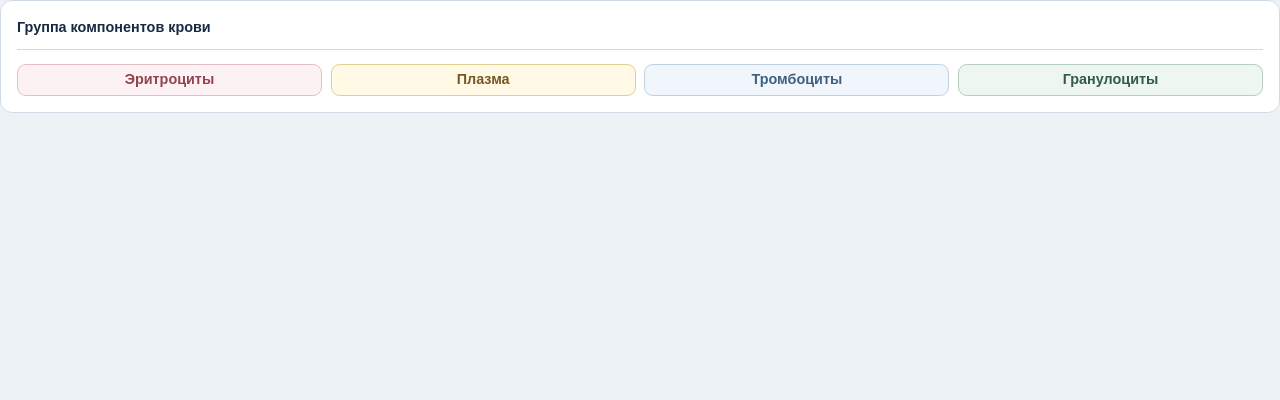
Test: toggles off the chosen group without erasing its stored name
Expected: the field labelled "Наименование компонента донорской крови" is not shown
Click the button "Эритроциты".
click(169, 80)  # box [17, 64, 322, 96]
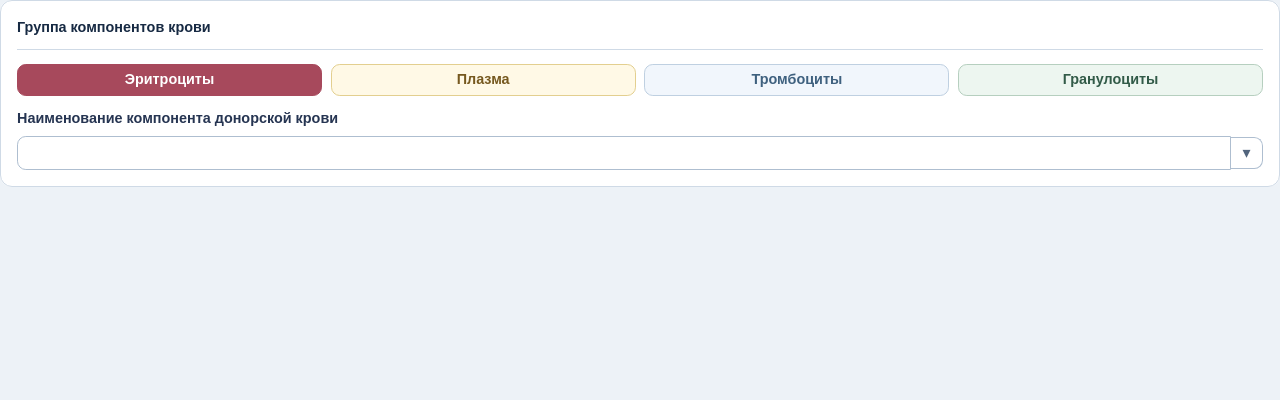
Expected: the button "Эритроциты" is pressed, [17, 64, 322, 96]
Type "Мой компонент" into the field named "Наименование компонента донорской крови".
click(624, 153); type("Мой компонент")  # box [17, 136, 1231, 170]
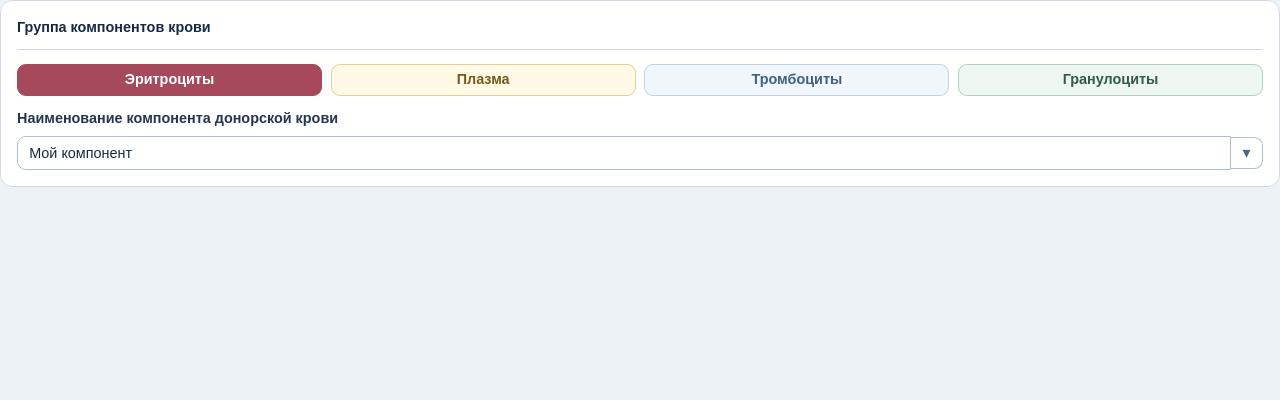
Click the button "Эритроциты".
click(169, 80)  # box [17, 64, 322, 96]
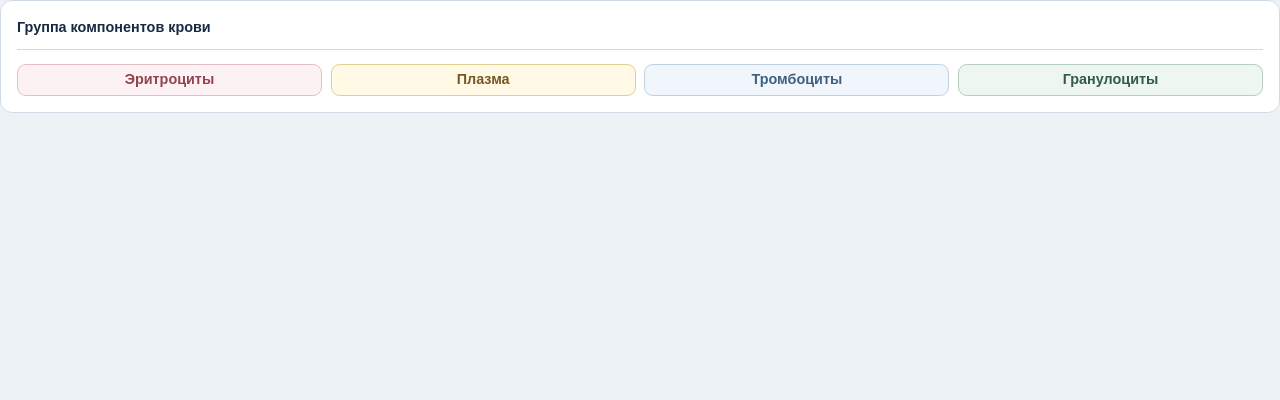
Expected: the text "Наименование компонента донорской крови" is gone
Click the button "Плазма".
click(483, 80)  # box [331, 64, 636, 96]
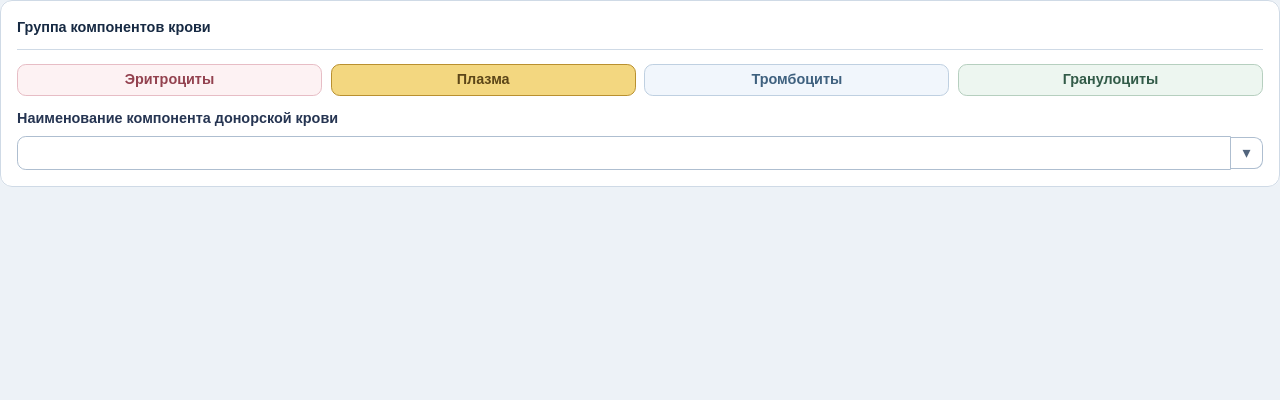
Expected: the field named "Наименование компонента донорской крови" is empty, [17, 136, 1231, 170]
Click the button named "Показать сохранённые варианты: Наименование компонента донорской крови".
click(1247, 153)  # box [1231, 137, 1263, 169]
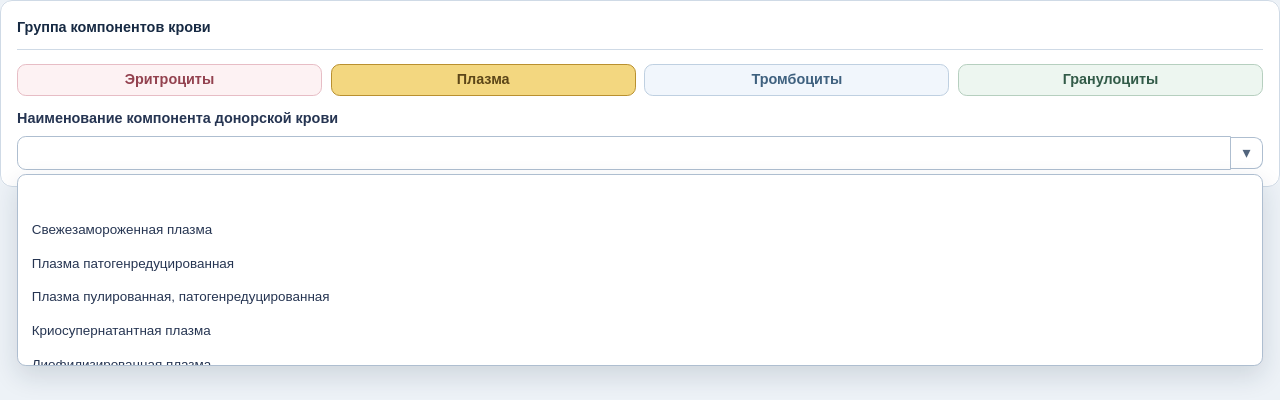
Click the button "Свежезамороженная плазма".
click(122, 230)  # box [23, 214, 1247, 246]
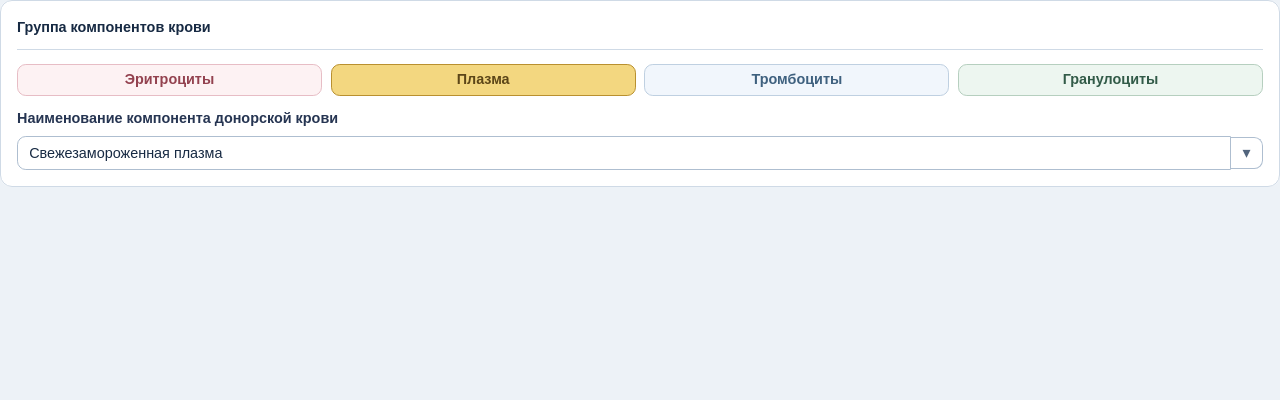
Expected: the field named "Наименование компонента донорской крови" holds "Свежезамороженная плазма", [17, 136, 1231, 170]
